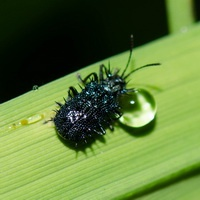insect: (45, 35, 159, 146)
